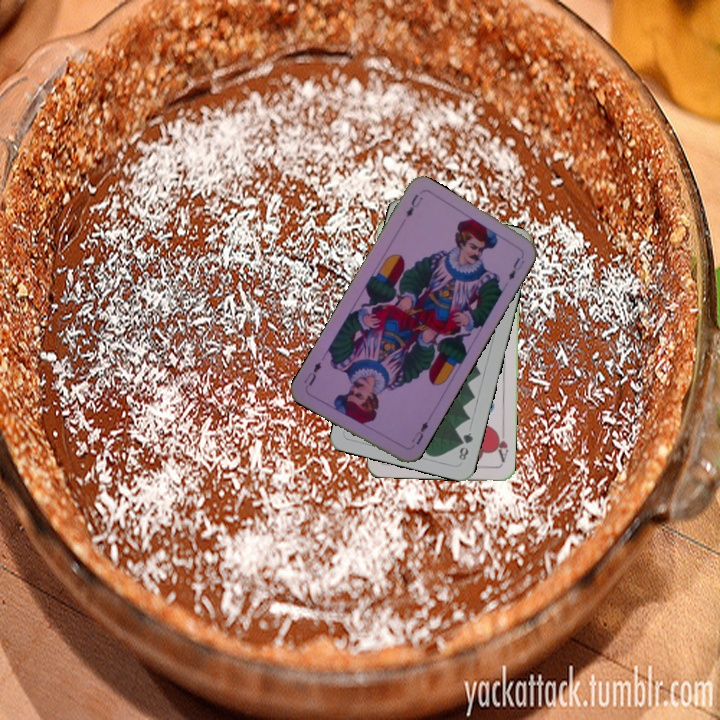EU: (407, 417, 431, 447), (402, 190, 425, 220)
G8: (455, 428, 476, 463)
HA: (492, 425, 511, 465)
